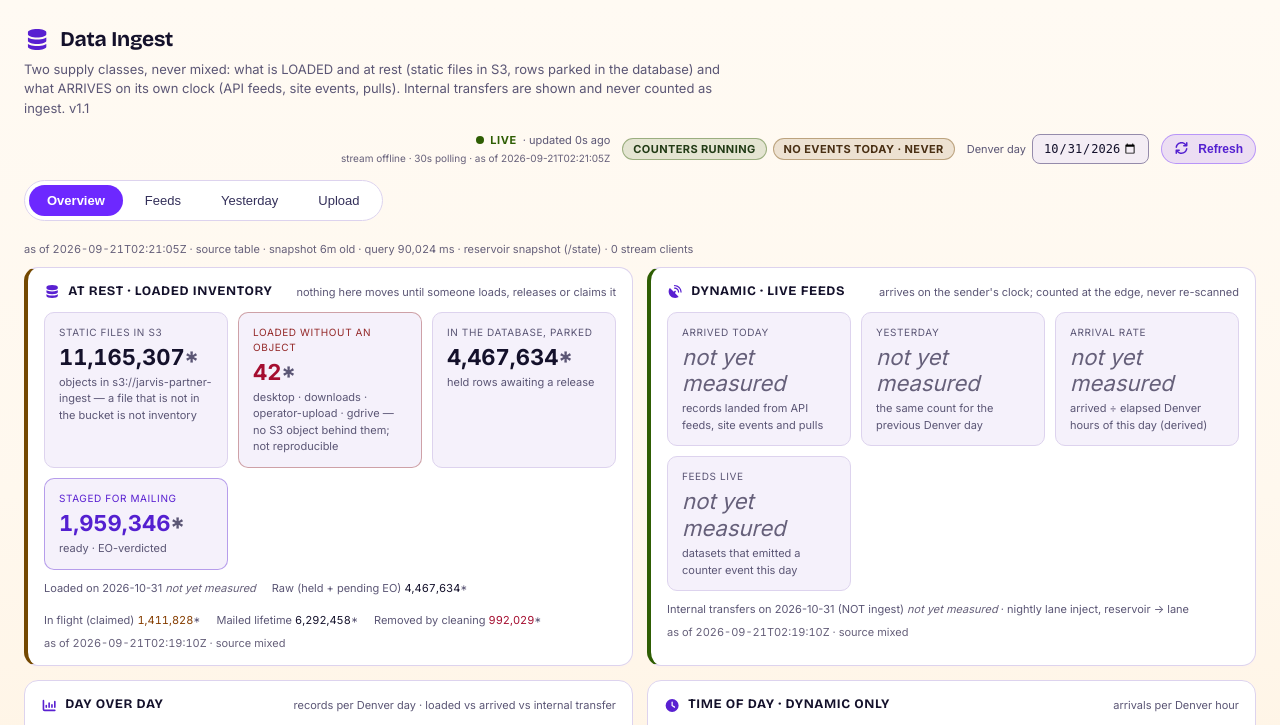
Test: DataIngestPortal (real /state + /feeds bodies) › lists all 62 feeds on the Feeds view with absent timestamps shown as absent
The image size is (1280, 725).
Check: the text "counters running" is shown, box [622,138,767,160]
Click the tab "Feeds": [163, 200] box [127,184,199,216]
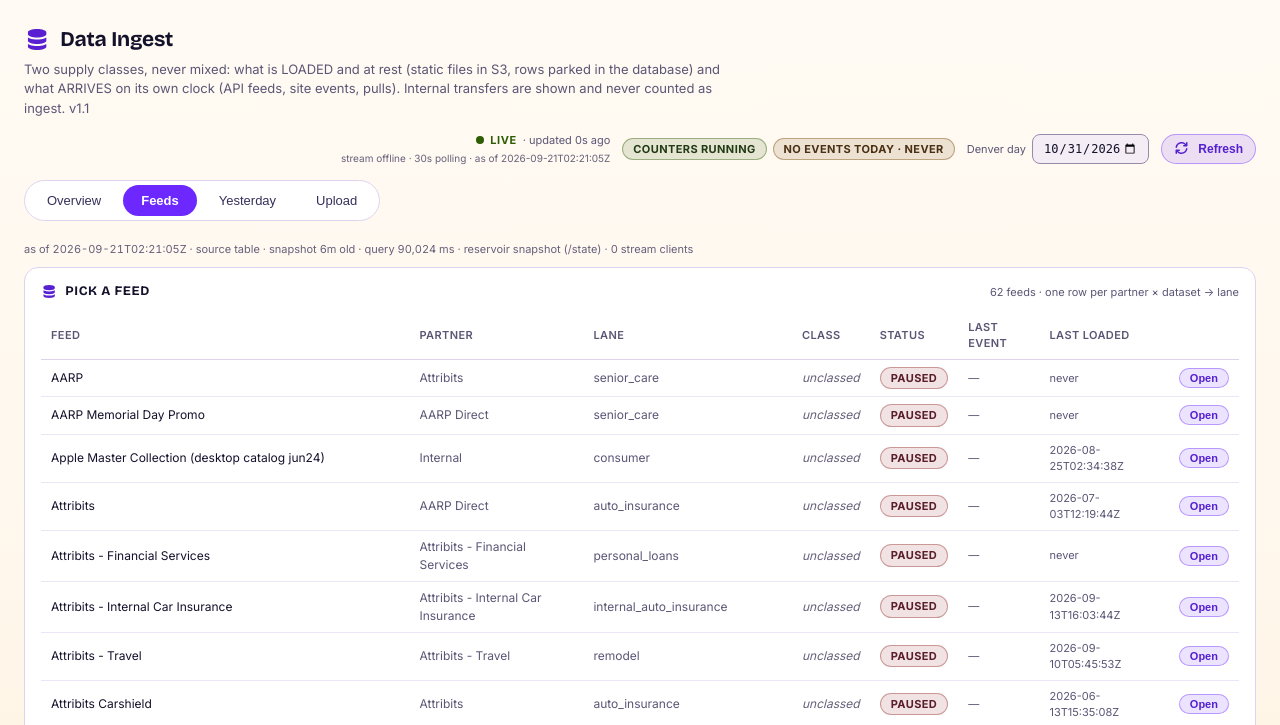
Check: the text "62 feeds · one row per partner × dataset → lane" is shown, box [990,284,1239,300]
Check: the 1st text "never" is shown, box [1040,359,1169,396]
